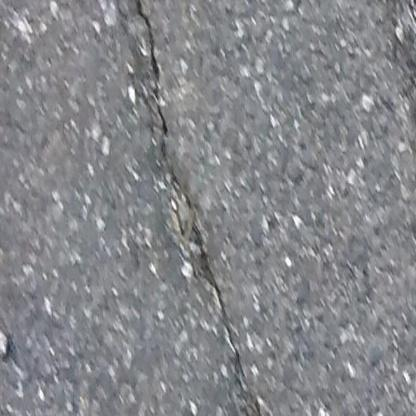Cracks: (111, 0, 269, 416), (375, 0, 416, 227)
